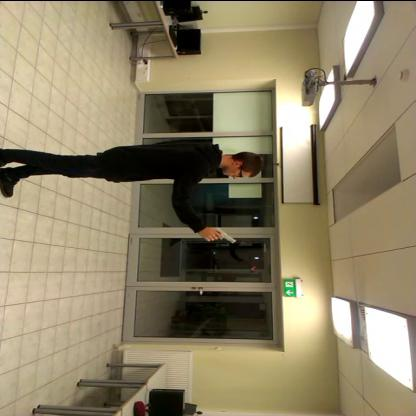Pistol: (204, 224, 242, 248)
